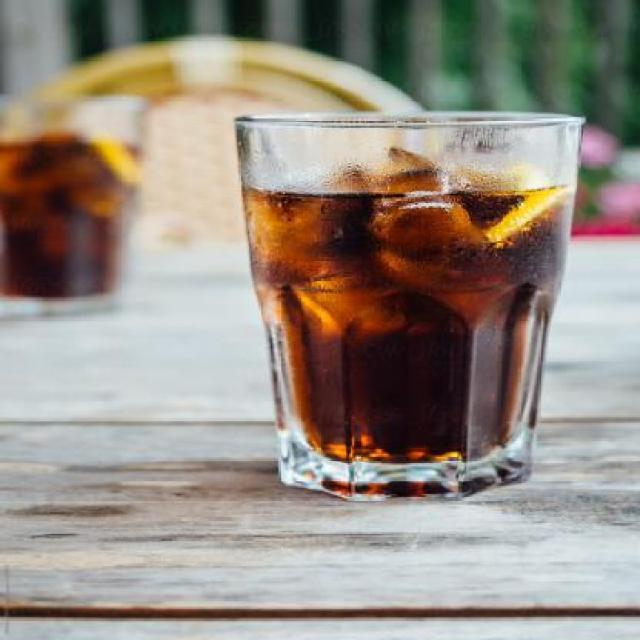Coke: (225, 110, 593, 504)
